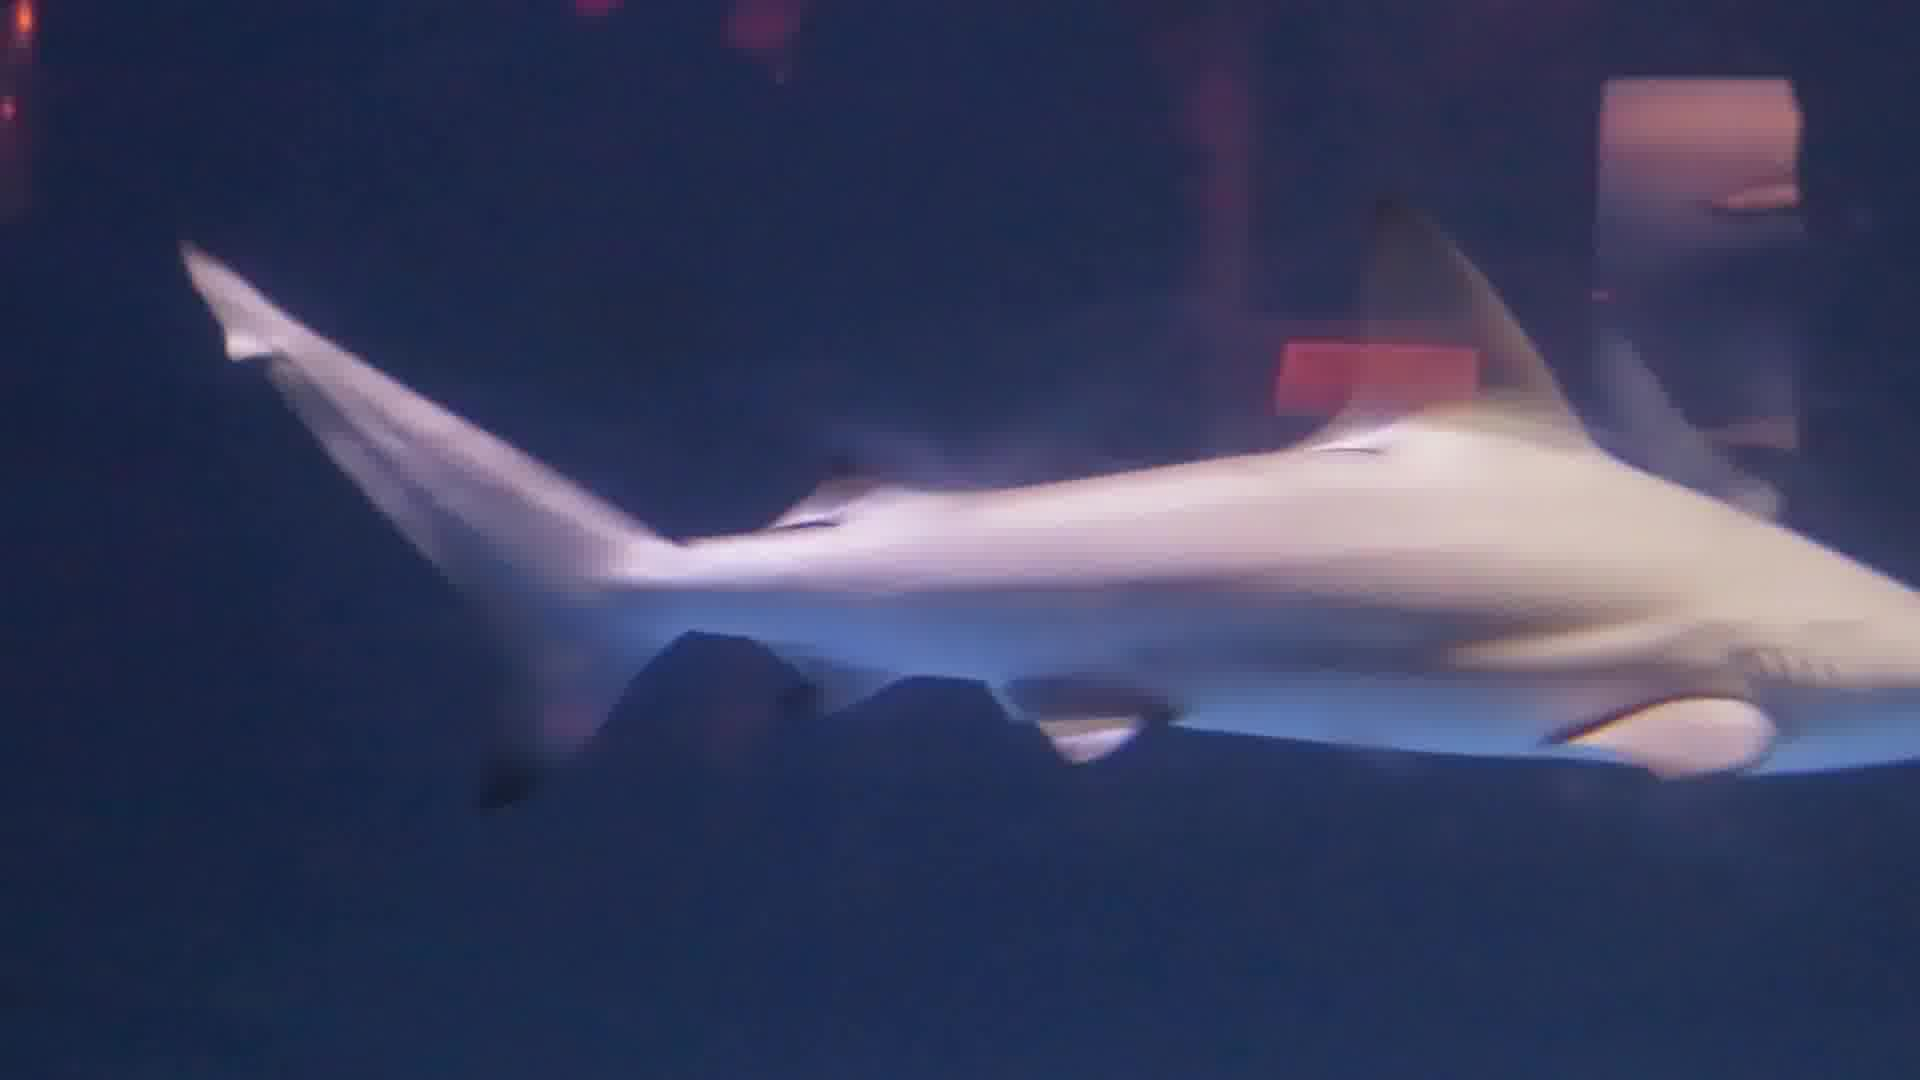Carcharhinus leucas: (178, 96, 1917, 819)
